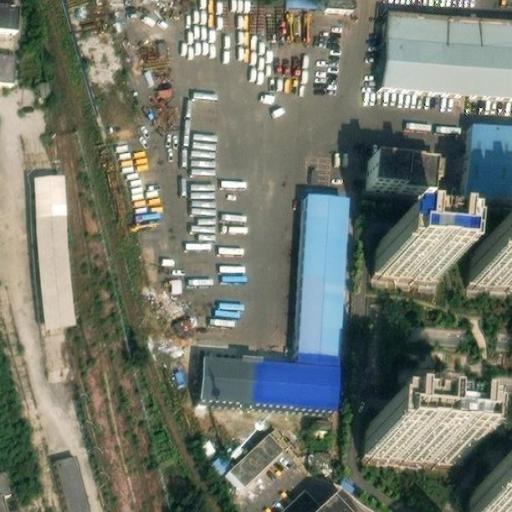building: (385, 2, 512, 87), (297, 186, 350, 356), (202, 348, 339, 400), (34, 167, 74, 320), (366, 417, 465, 455), (468, 116, 512, 190), (223, 431, 281, 487), (376, 232, 442, 272), (368, 151, 430, 192), (53, 452, 90, 512), (468, 237, 512, 277), (404, 320, 461, 348), (272, 483, 321, 512), (470, 483, 512, 512), (211, 443, 238, 470), (310, 493, 348, 512), (0, 45, 17, 75)
